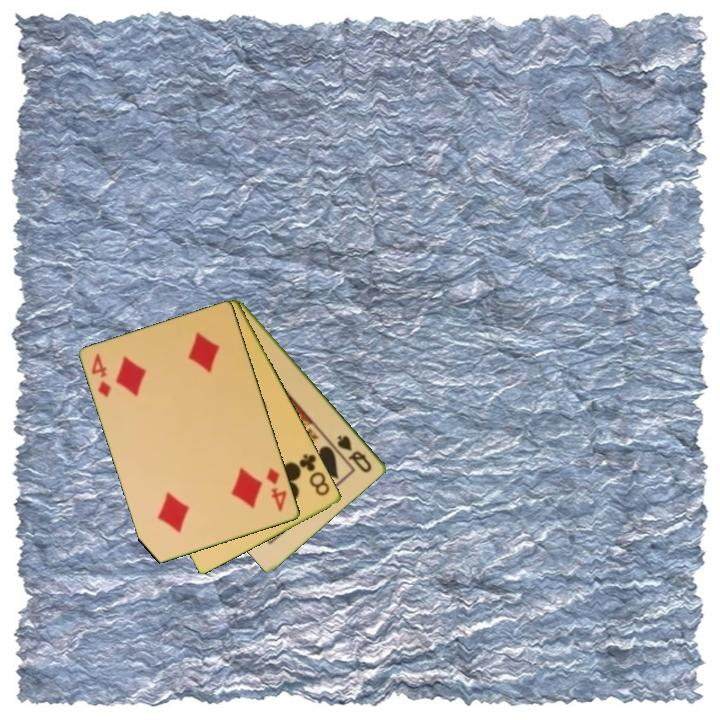4d: (263, 464, 290, 514), (88, 350, 114, 401)
8c: (296, 450, 333, 499)
Qs: (334, 432, 375, 476)
